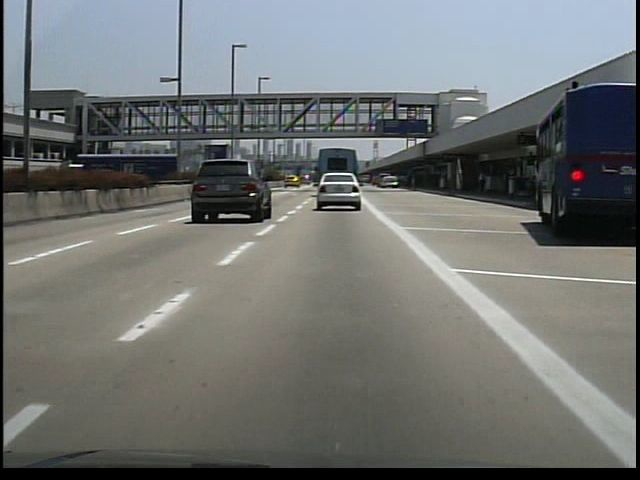person: (472, 164, 493, 201)
